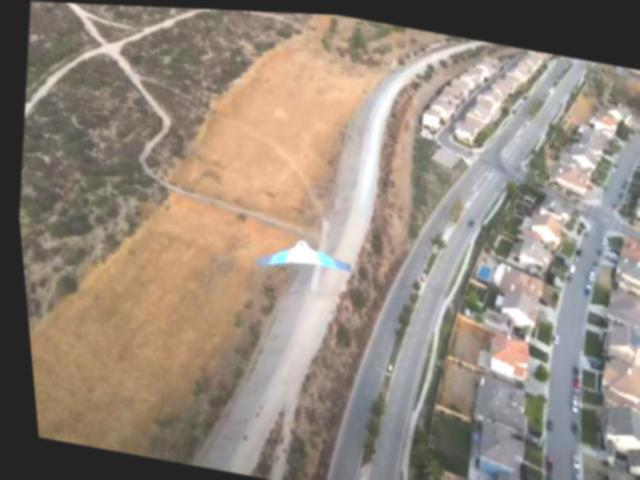iha: (252, 229, 349, 282)
